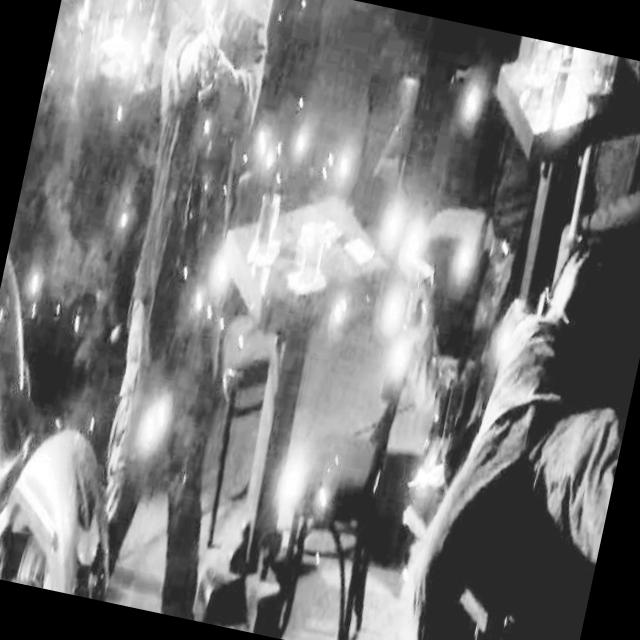Motorcycle: (0, 116, 193, 599)
